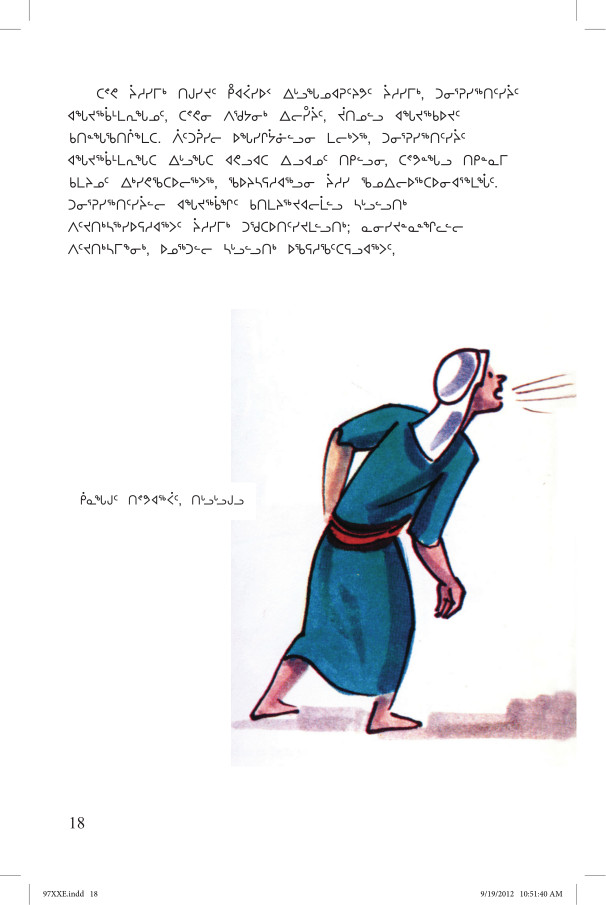inuktitut: (56, 76, 531, 264), (74, 486, 249, 508)
